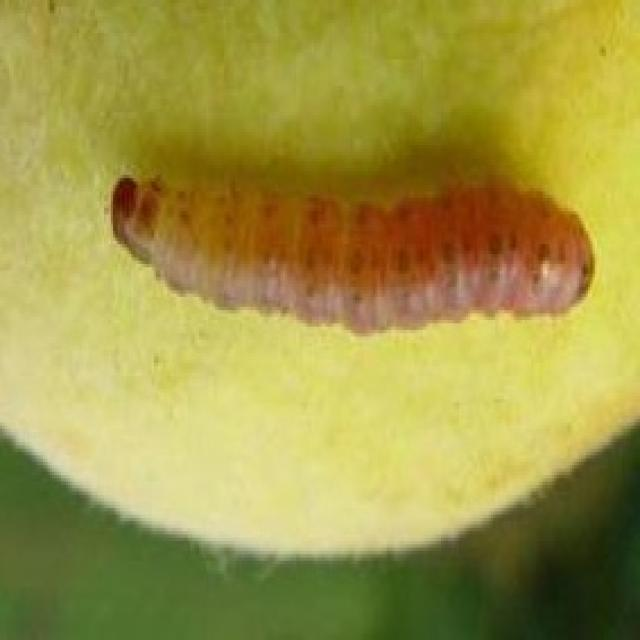peach borer: (98, 169, 605, 341)
